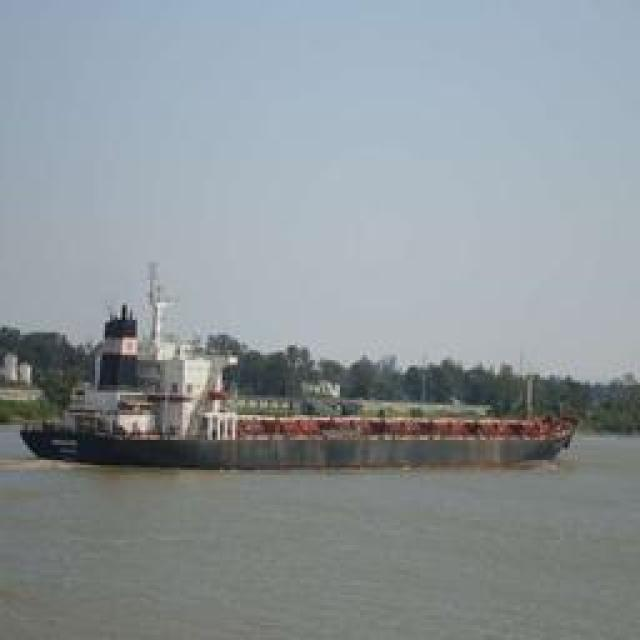Ship: (16, 403, 586, 471)
